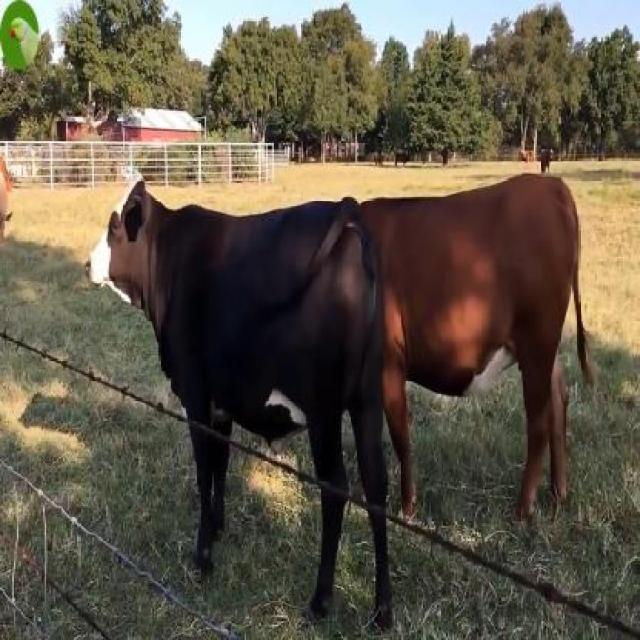Cow: (85, 172, 397, 634)
